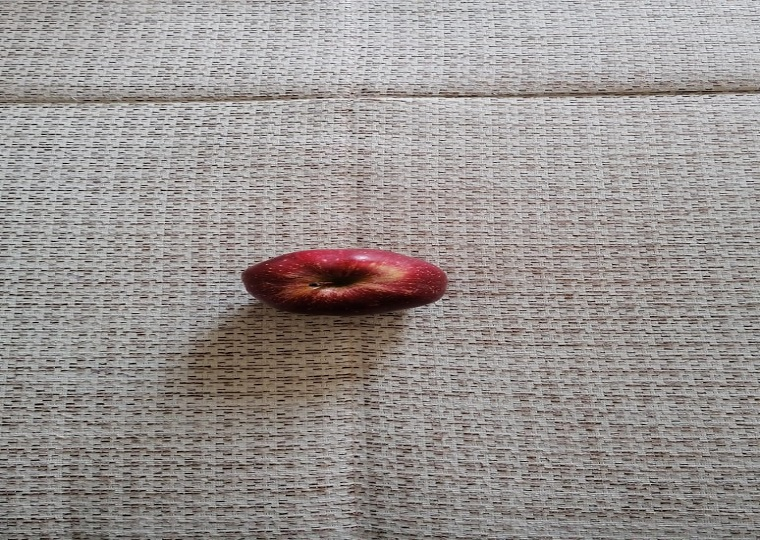elma: (240, 248, 450, 318)
